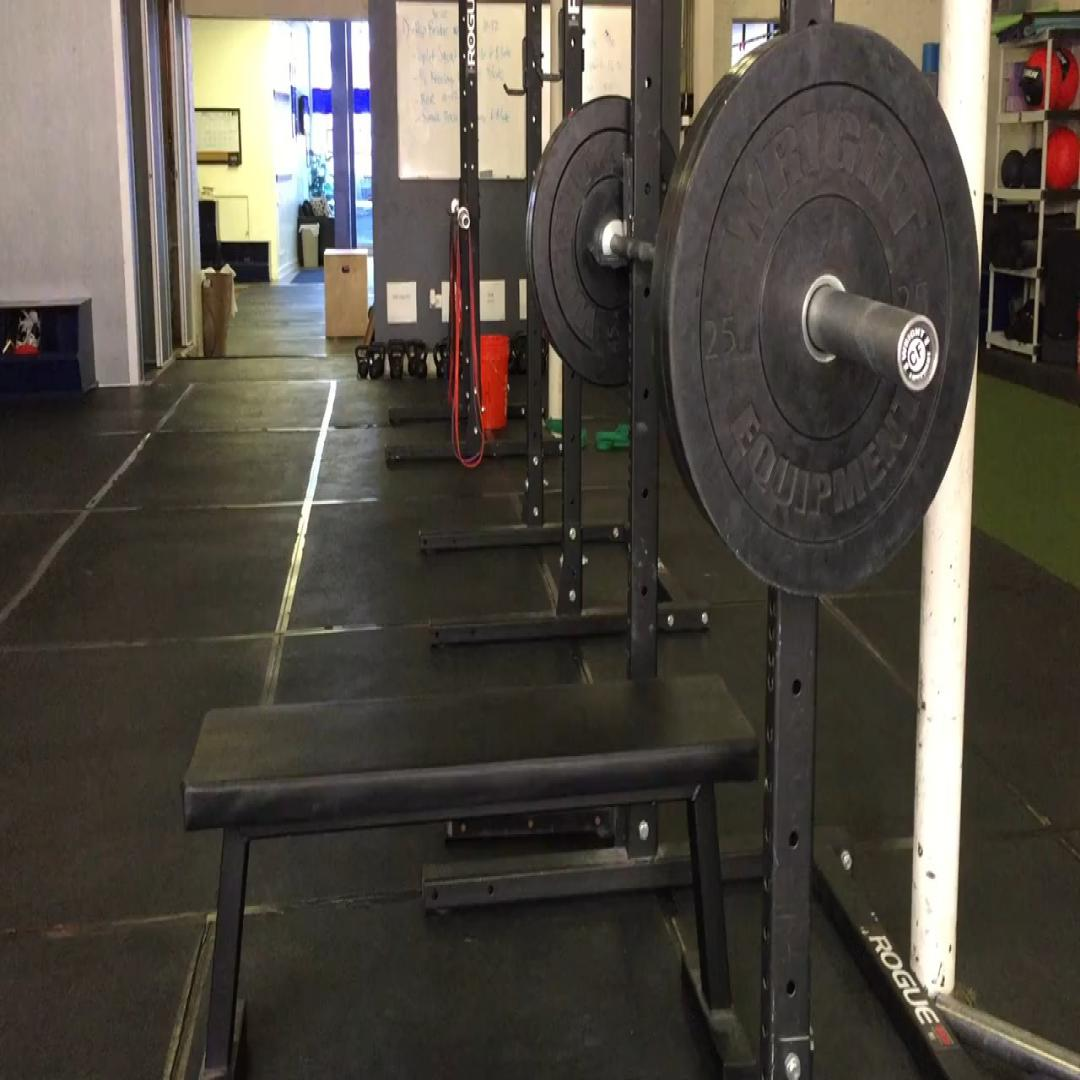Bar: (898, 315, 940, 393)
Barbell: (669, 23, 980, 597)
